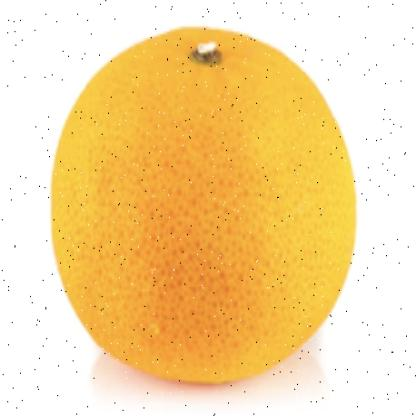fresh: (51, 25, 359, 388)
